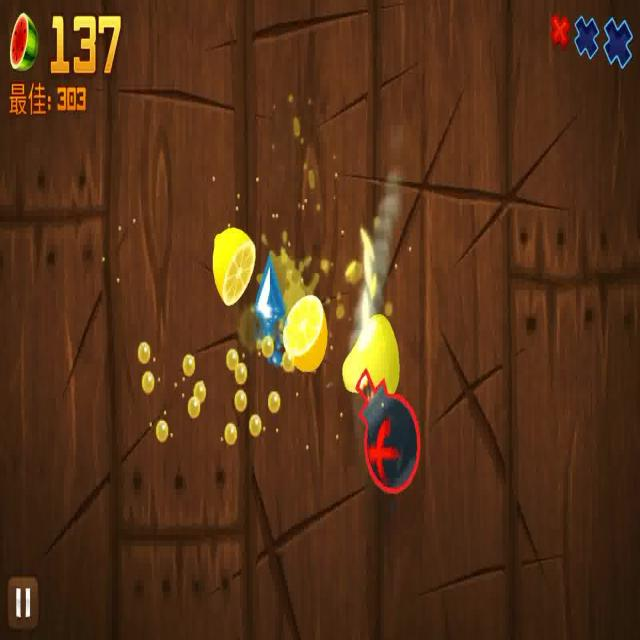bomb: (357, 373, 419, 496)
fruit: (344, 311, 401, 396), (282, 295, 328, 375), (214, 230, 254, 305)
